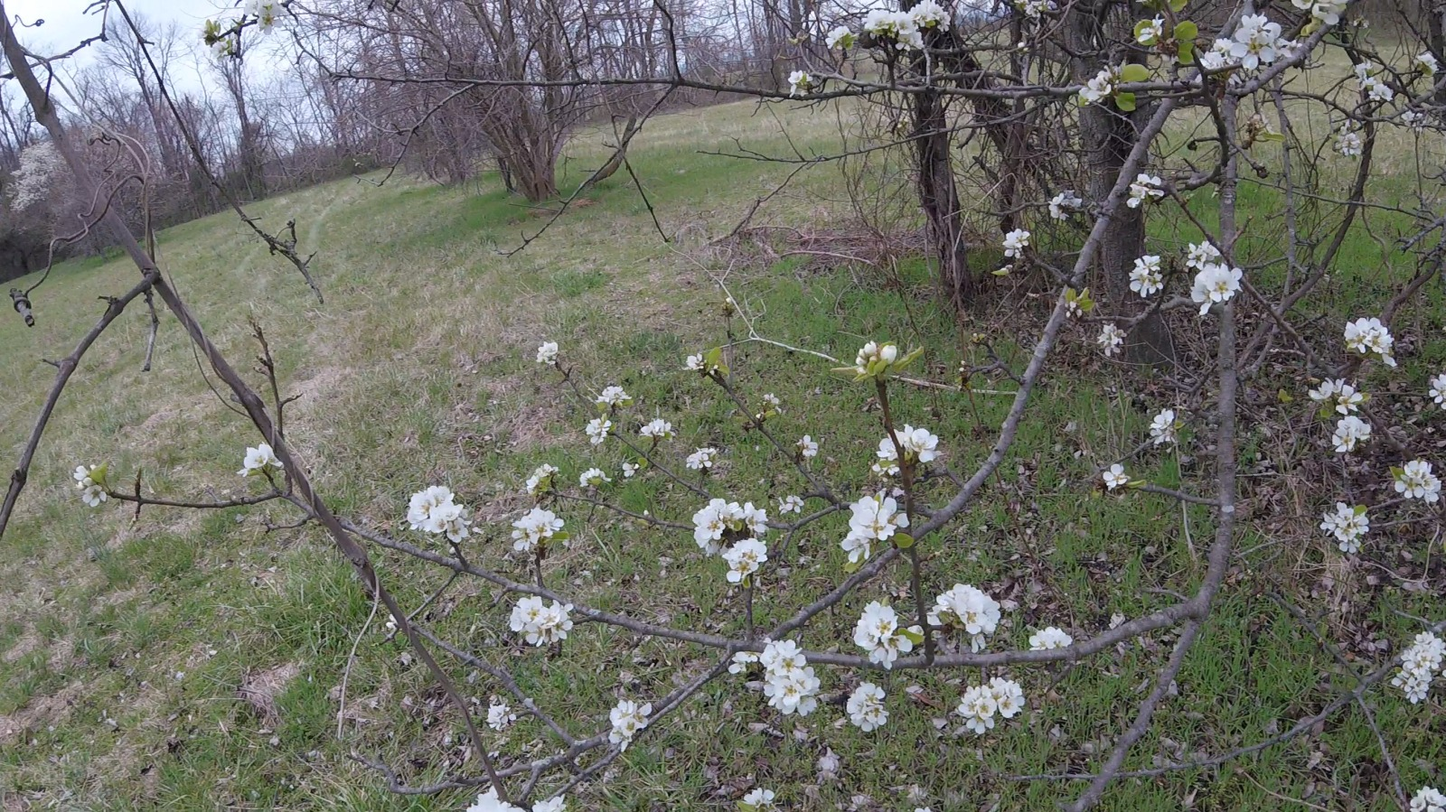flower: (728, 638, 822, 717), (1200, 13, 1298, 71), (924, 583, 1001, 653), (861, 0, 952, 51), (693, 499, 769, 557), (840, 488, 897, 565), (1187, 241, 1244, 315), (853, 601, 913, 670), (955, 677, 1025, 735), (1392, 631, 1446, 705), (404, 486, 474, 543), (510, 594, 574, 648), (512, 504, 565, 563), (1320, 502, 1369, 562), (1344, 317, 1398, 368), (1395, 458, 1446, 504), (609, 700, 654, 752), (847, 682, 890, 733), (722, 538, 768, 583), (1309, 378, 1364, 415), (894, 425, 946, 463), (65, 466, 111, 508), (1355, 55, 1394, 102), (238, 442, 285, 478), (1142, 408, 1177, 455), (485, 695, 528, 732), (466, 786, 526, 812), (1130, 256, 1167, 298), (1332, 416, 1373, 453), (1084, 323, 1127, 357), (1127, 174, 1165, 209), (1079, 66, 1113, 102), (1332, 121, 1366, 156), (1029, 627, 1073, 654), (1410, 779, 1446, 812), (996, 229, 1033, 257), (1048, 186, 1078, 220), (848, 341, 878, 375), (1312, 0, 1350, 25), (1133, 14, 1165, 43), (595, 387, 633, 411), (687, 447, 719, 474), (586, 414, 612, 447), (826, 26, 859, 49), (1103, 464, 1131, 490), (789, 71, 813, 98), (640, 419, 676, 437), (532, 794, 568, 812), (580, 467, 612, 487), (743, 788, 775, 808), (877, 434, 898, 461), (1416, 51, 1440, 74), (777, 496, 806, 515), (537, 341, 559, 366), (1428, 375, 1446, 404), (795, 435, 818, 457), (527, 466, 544, 495), (682, 353, 704, 370), (880, 346, 897, 364), (623, 462, 641, 478), (761, 393, 780, 407), (1291, 0, 1314, 10), (888, 464, 900, 476), (872, 463, 881, 472), (1372, 436, 1379, 445), (588, 387, 596, 394), (1441, 403, 1446, 410), (515, 714, 522, 715)
